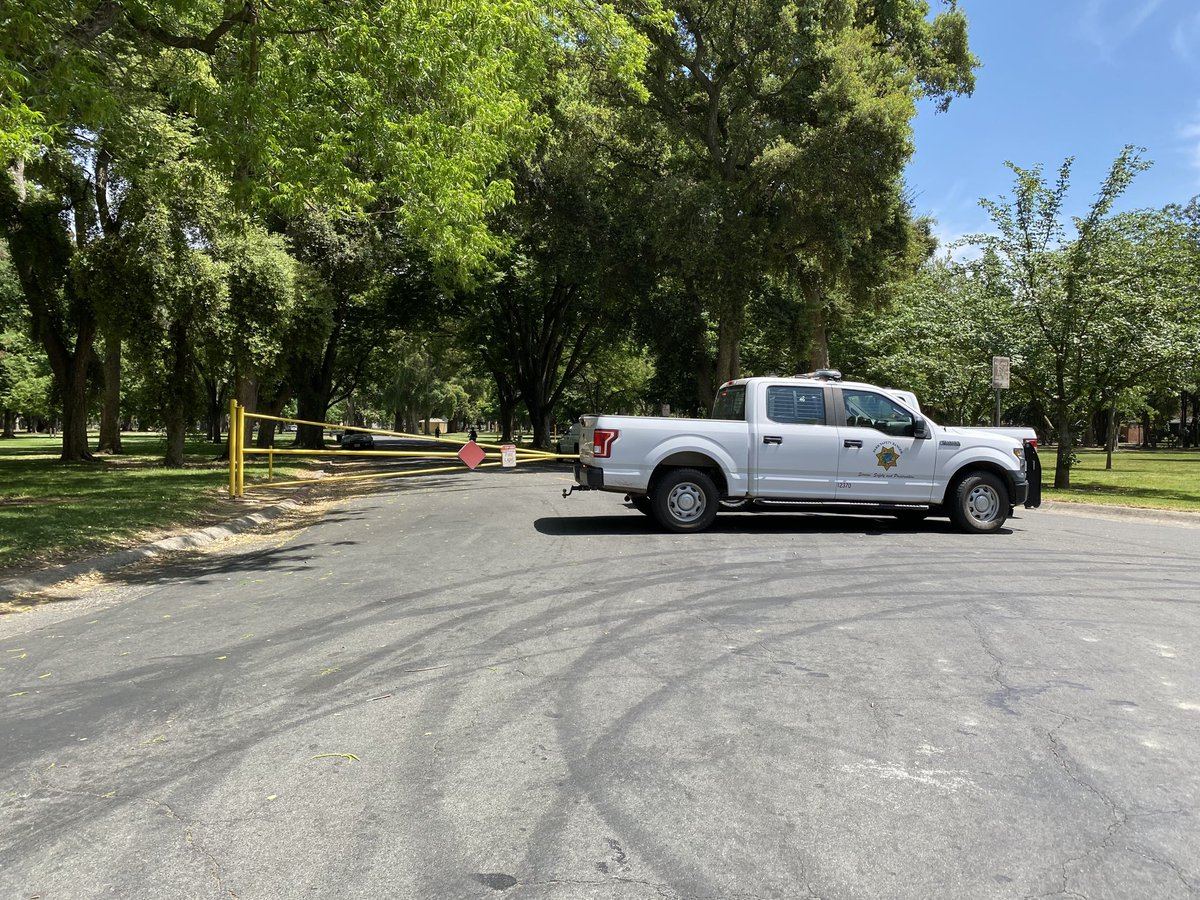Vehicle: (560, 370, 1057, 547)
